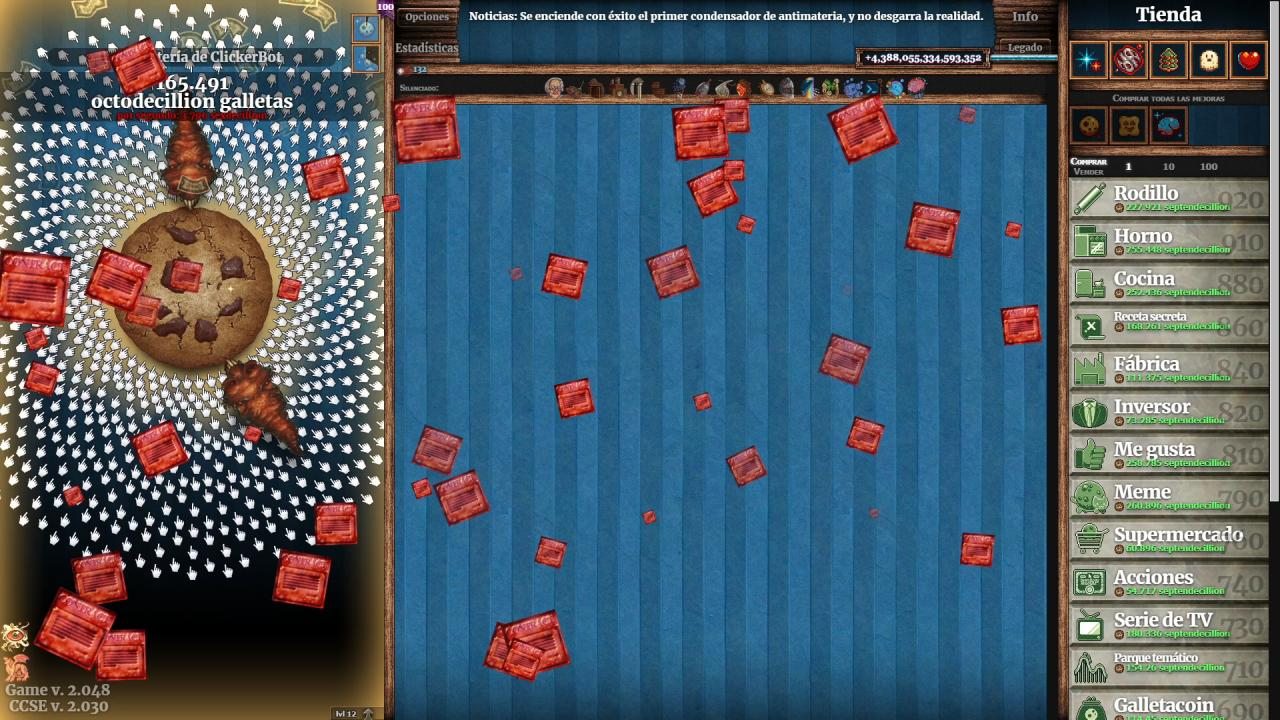RedCartridge: (32, 584, 118, 672), (0, 247, 74, 328), (826, 92, 901, 166), (390, 92, 462, 166), (84, 245, 154, 315), (502, 609, 570, 680), (108, 35, 170, 98), (271, 548, 333, 610), (670, 102, 731, 164), (129, 418, 190, 480), (433, 467, 492, 528), (903, 201, 963, 259), (69, 551, 129, 607), (483, 620, 537, 682), (645, 243, 702, 301), (686, 162, 741, 221), (94, 627, 150, 683), (818, 333, 872, 388), (411, 423, 465, 477), (301, 152, 350, 204), (540, 252, 590, 302), (313, 501, 360, 548), (1000, 302, 1044, 347), (725, 444, 769, 489), (554, 376, 598, 421), (503, 638, 545, 682), (844, 415, 887, 457), (124, 290, 164, 330), (22, 359, 61, 398), (713, 98, 751, 136), (960, 531, 996, 569), (169, 259, 205, 294), (534, 535, 568, 570), (23, 324, 50, 352), (86, 48, 112, 76), (277, 275, 303, 303), (721, 159, 748, 182), (61, 483, 85, 508), (956, 103, 980, 125), (736, 213, 758, 236), (411, 477, 433, 499), (693, 391, 713, 413), (382, 192, 402, 213), (244, 422, 262, 444), (1004, 221, 1022, 240), (509, 265, 525, 282), (642, 510, 658, 526), (868, 507, 881, 519)
